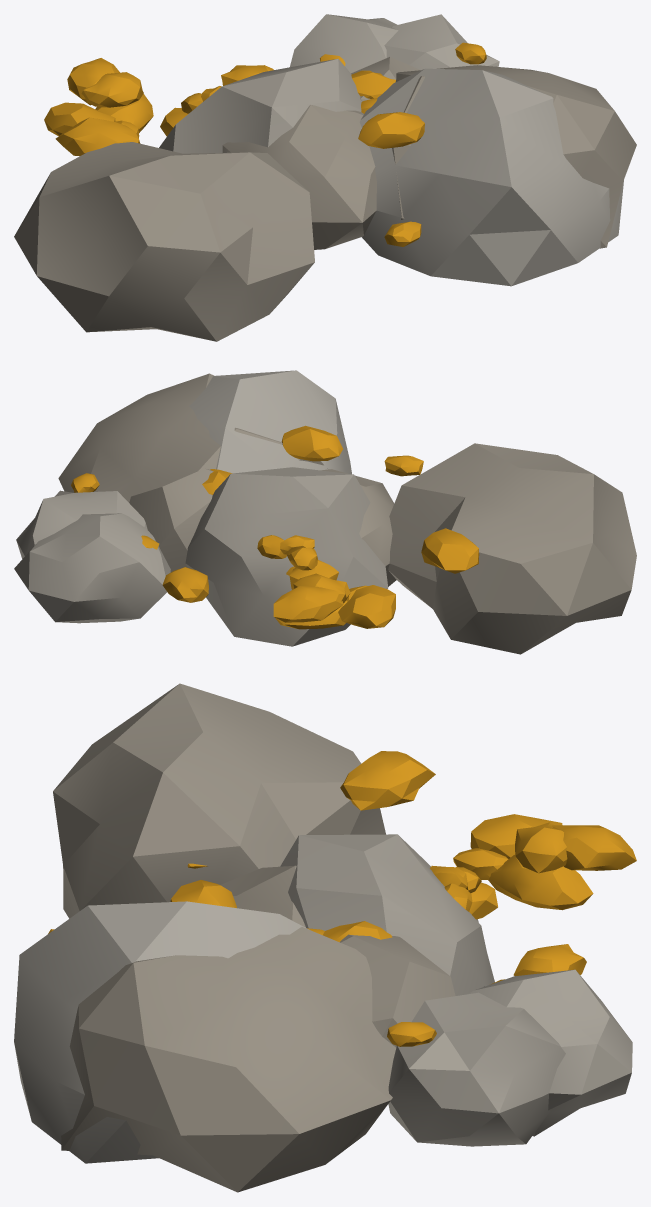
The model's file is dep_gold_1.glb.
The picture shows the model from 3 angles, top to bottom: view 1: azimuth 30°, elevation 25°; view 2: azimuth 150°, elevation 25°; view 3: azimuth 270°, elevation 25°; orthographic projection. The views are drawn at different scales.
Parts seen in each view (by area): view 1: rock_gold, gold; view 2: rock_gold, gold; view 3: rock_gold, gold.
Boxes of the visible parts, left/top/right/bottom form: rock_gold: left=14, top=14, right=636, bottom=341; gold: left=44, top=42, right=486, bottom=246; rock_gold: left=14, top=370, right=636, bottom=654; gold: left=71, top=425, right=479, bottom=629; rock_gold: left=14, top=683, right=632, bottom=1192; gold: left=48, top=751, right=636, bottom=1046.
Size of the model in its own units: 11.15 by 2.91 by 8.1.
